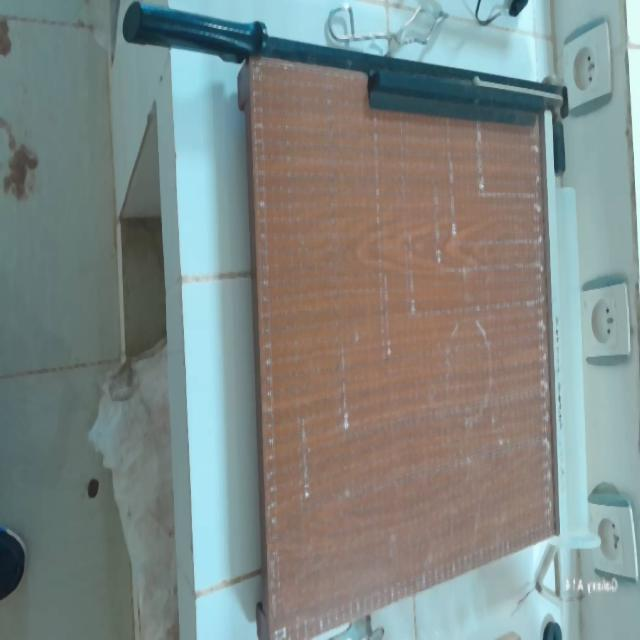TLC Cutter: (107, 4, 574, 640)
